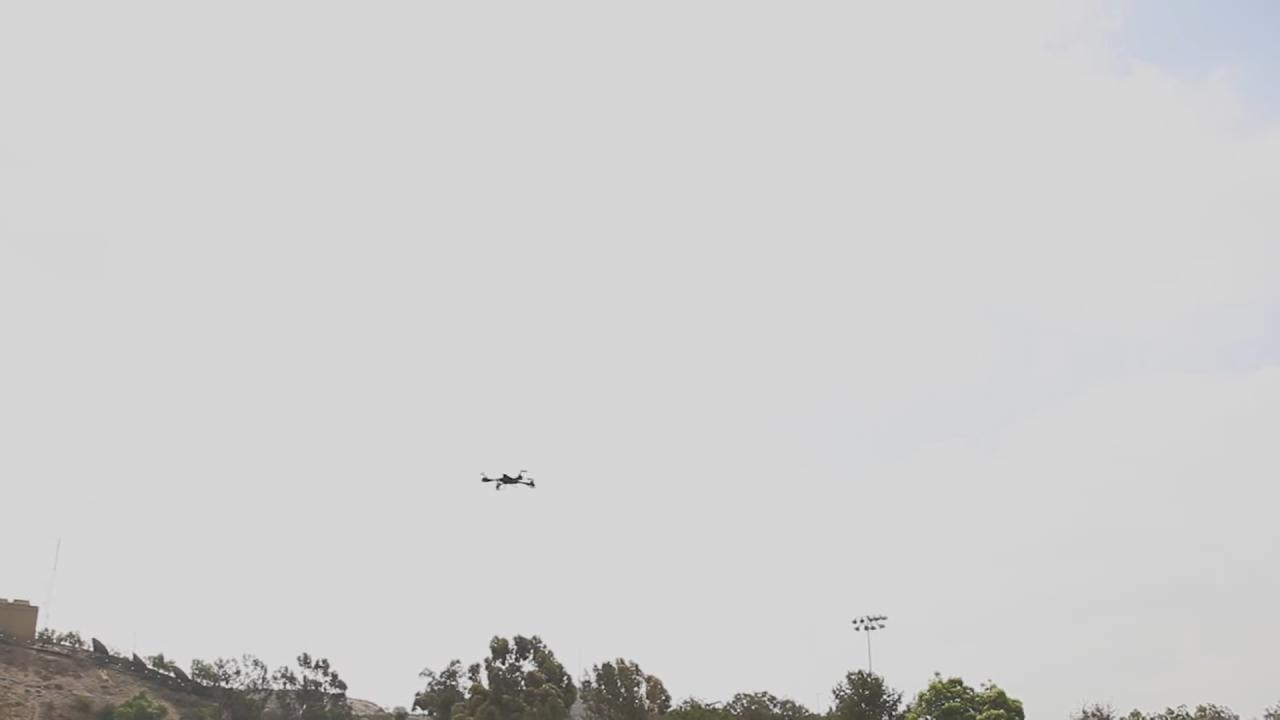Drone: (472, 460, 544, 501)
